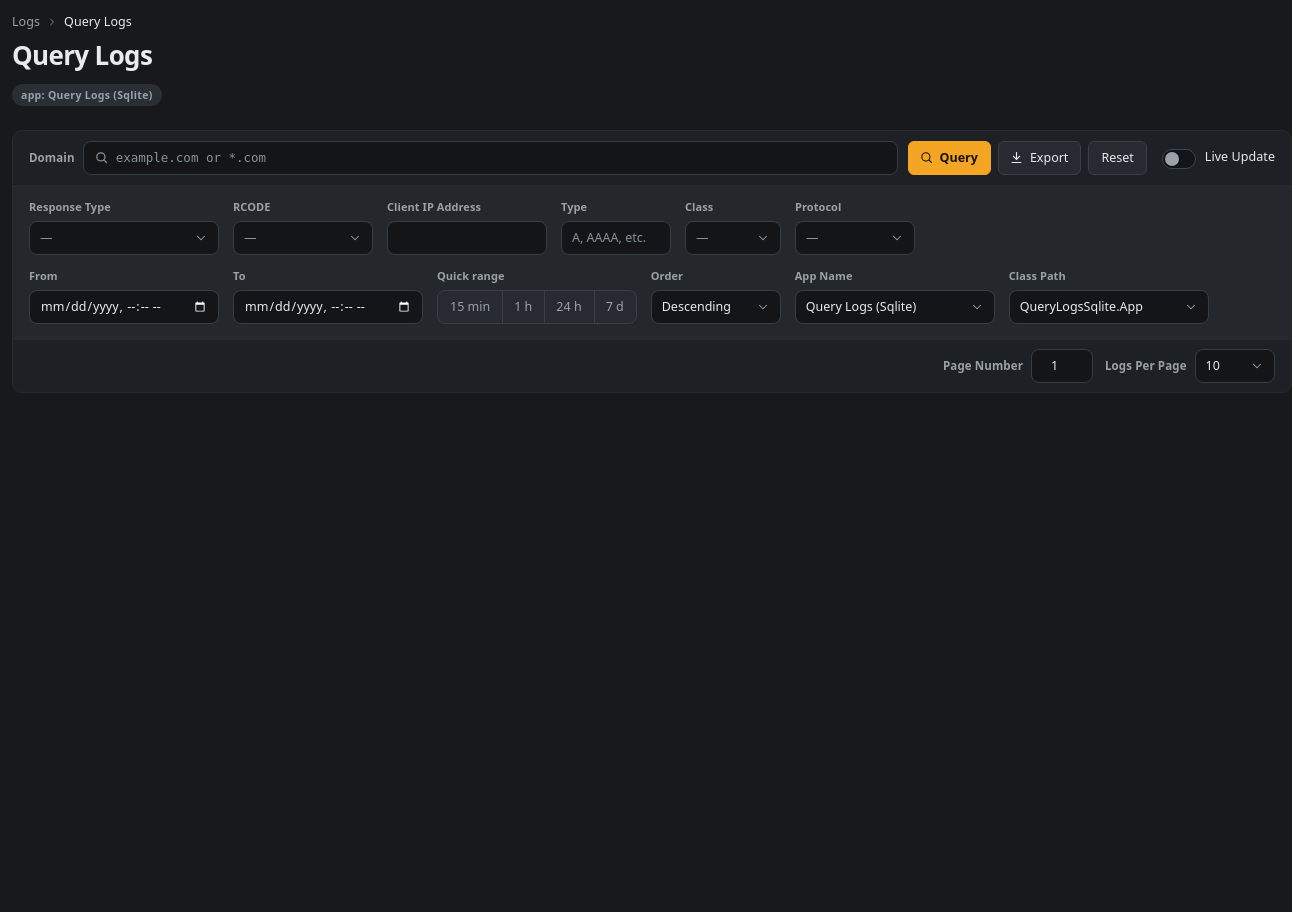
Test: Query Logs: quick ranges › Live Update disables them with From and To, and leaves none pressed
Expected: the dropdown named "App Name" is shown, [795,290,995,324]
Step 1. Click the button "15 min" → (470, 307), box [438,291,502,323]
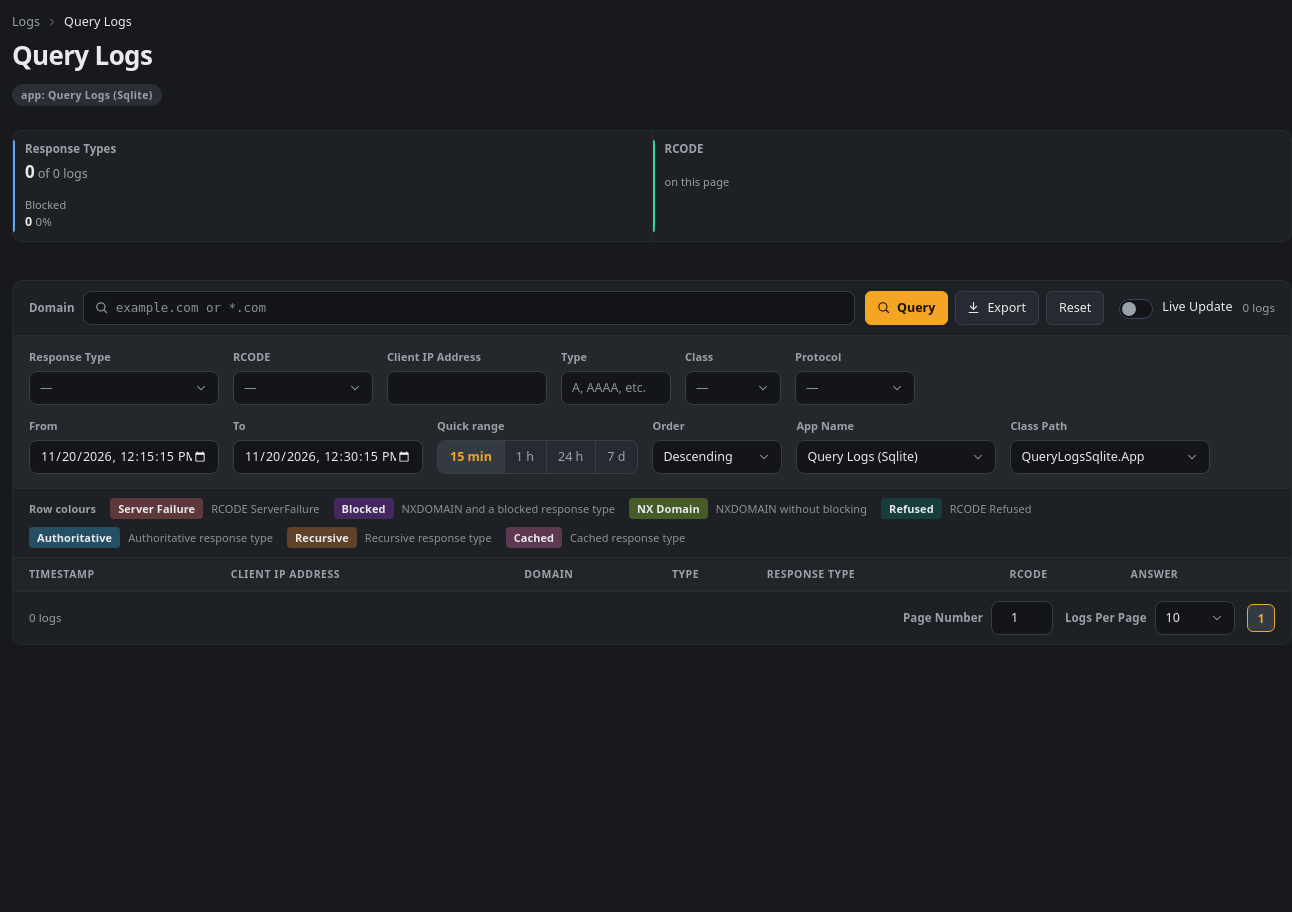
Step 2. Click the checkbox labelled "Live Update" → (1136, 309), box [1119,299,1153,319]
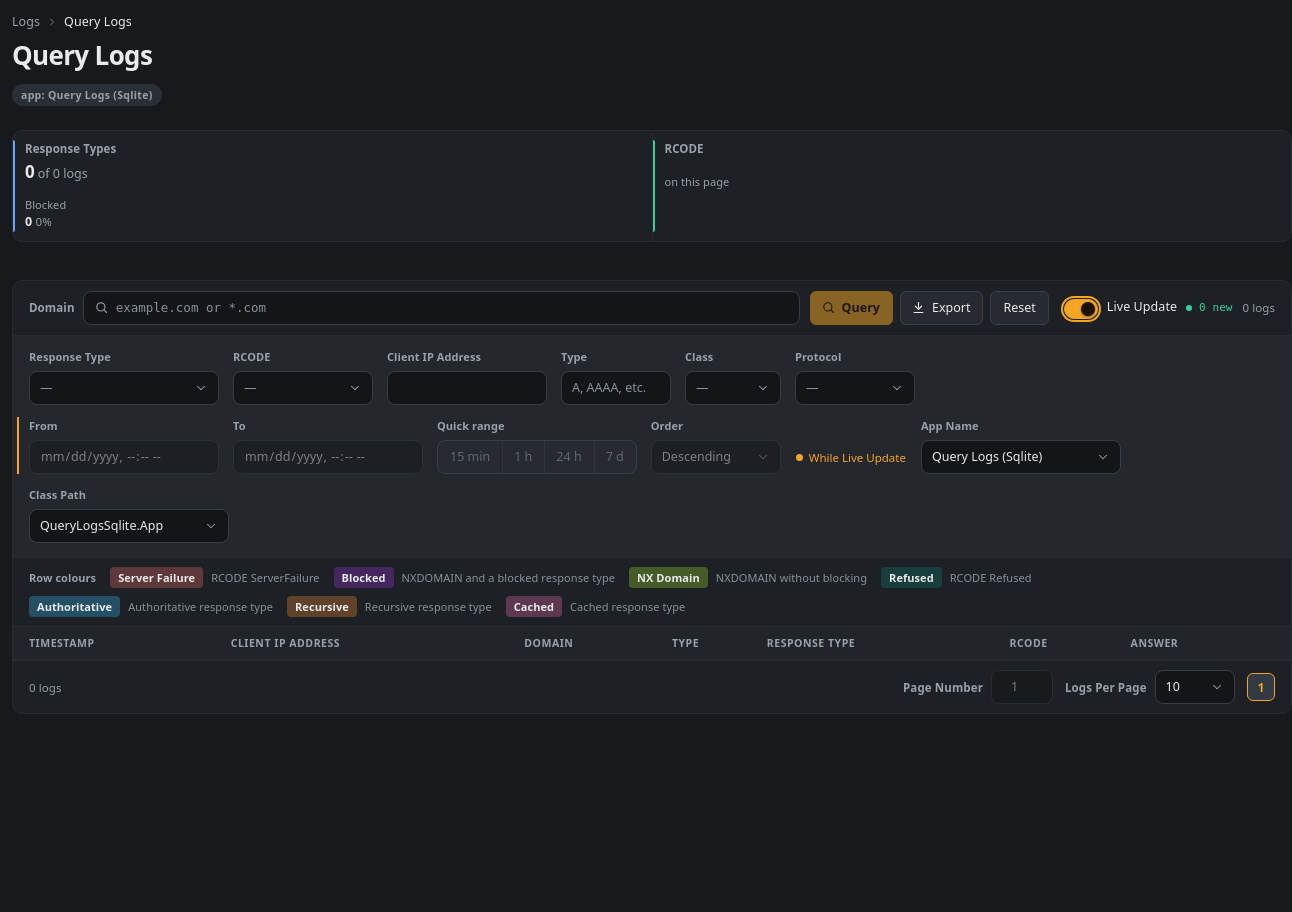
Expected: the button "15 min" is disabled, [438,441,502,473]
Expected: the button "1 h" is disabled, [502,441,544,473]
Expected: the button "24 h" is disabled, [544,441,594,473]
